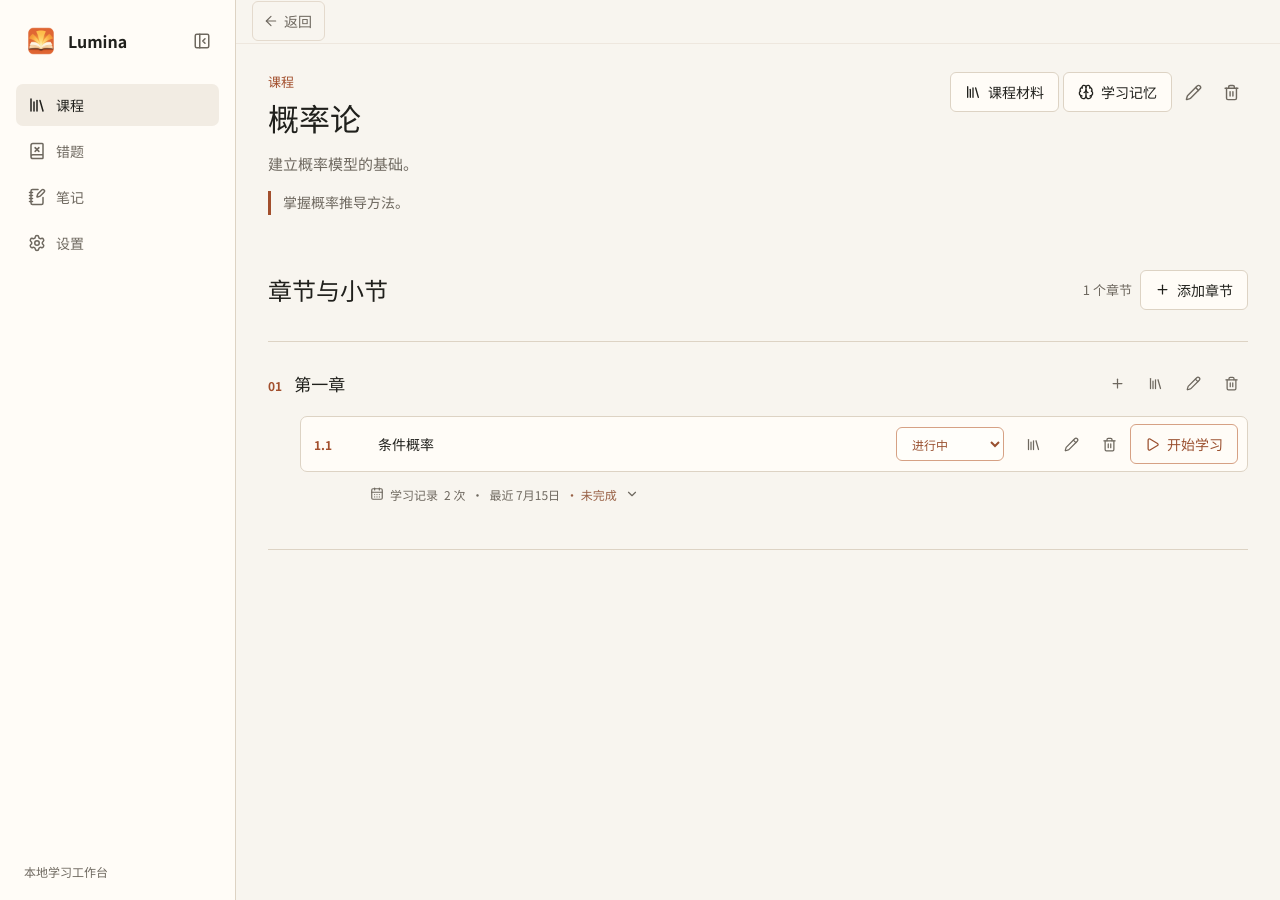
Test: App › reveals chapter and section creation forms only when requested
Expected: the heading "第一章" is shown, top-left (294, 371), bottom-right (345, 396)
Expected: the field labelled "章节标题" is not shown
Click the button "添加章节" at [1194, 290], box top-left (1140, 270), bottom-right (1248, 310)
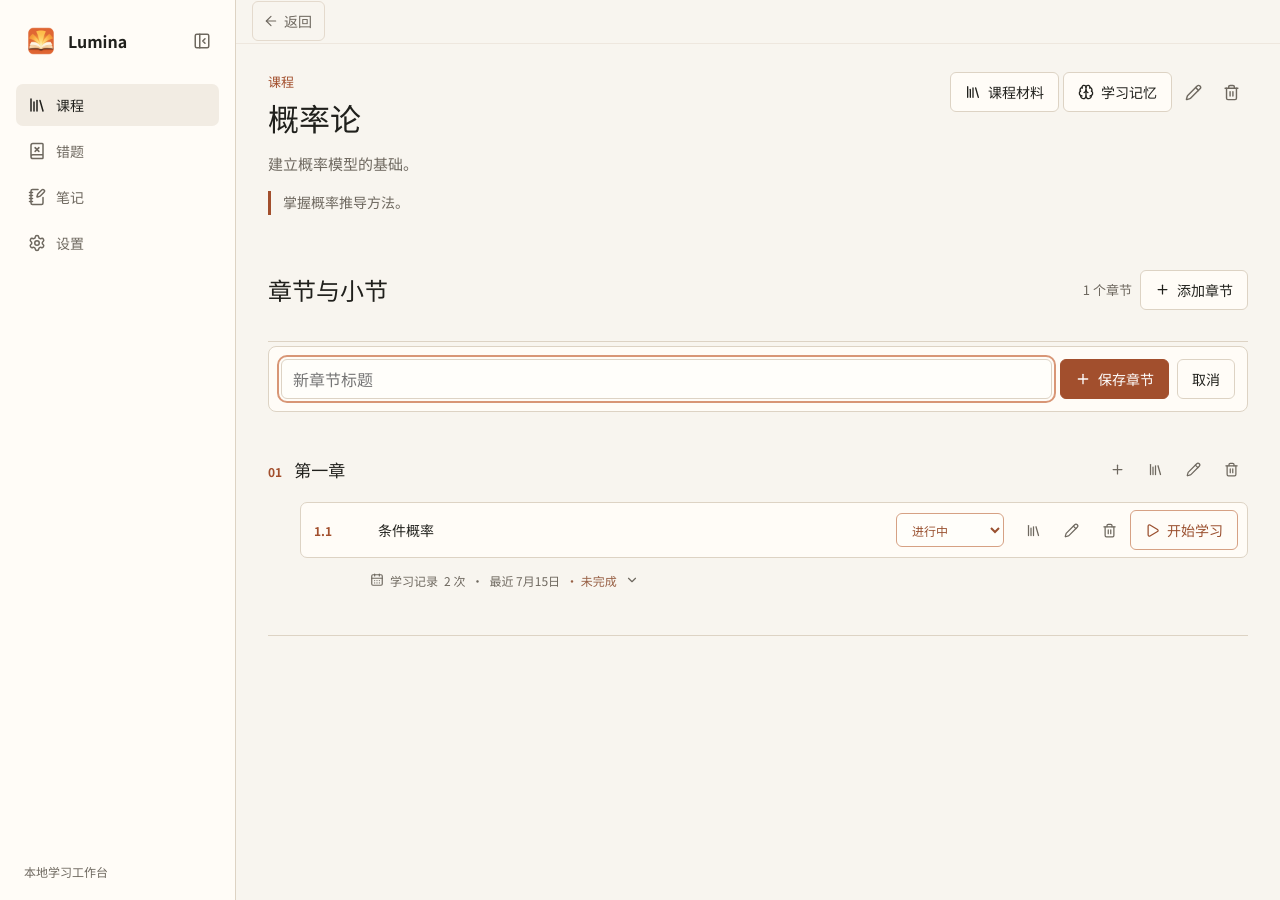
Expected: the field labelled "章节标题" is shown, top-left (281, 359), bottom-right (1052, 399)
Click the button named "在第一章中添加小节" at [1117, 469], box top-left (1100, 452), bottom-right (1134, 486)
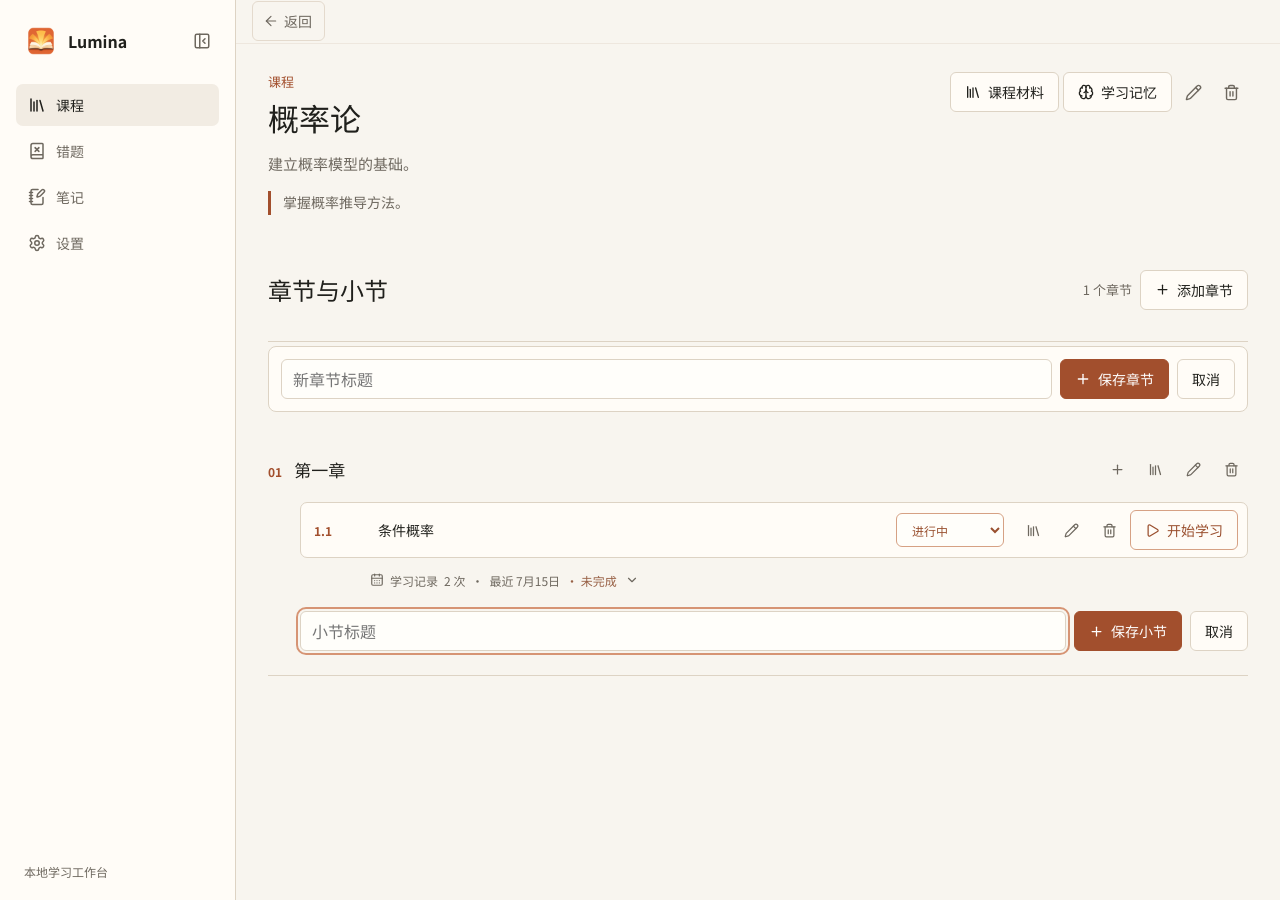
Expected: the field named "在第一章中创建小节" is shown, top-left (300, 611), bottom-right (1066, 651)
